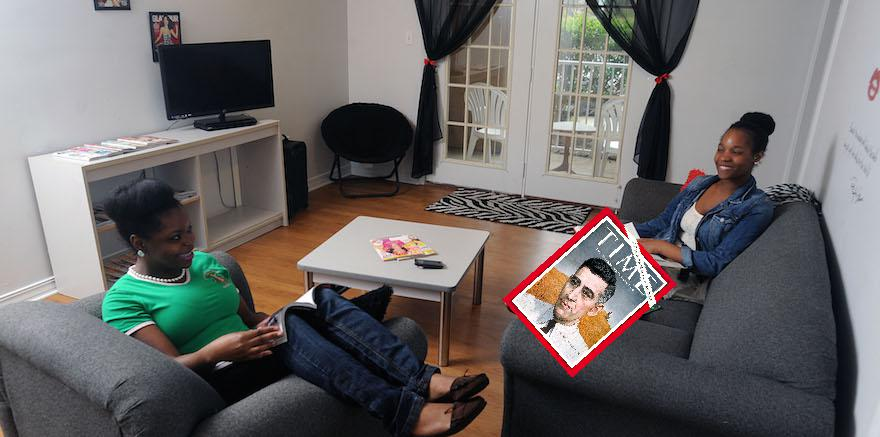times: (500, 203, 682, 378)
